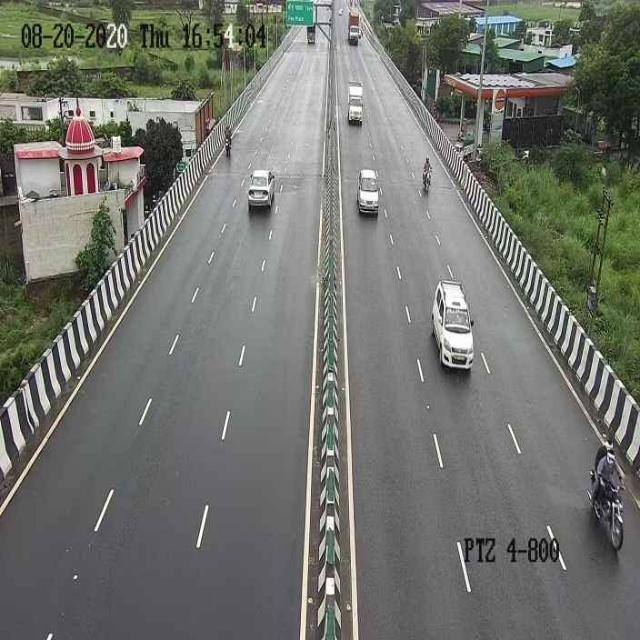car: (426, 273, 480, 375), (242, 164, 277, 215), (355, 168, 382, 218), (344, 79, 365, 128)
